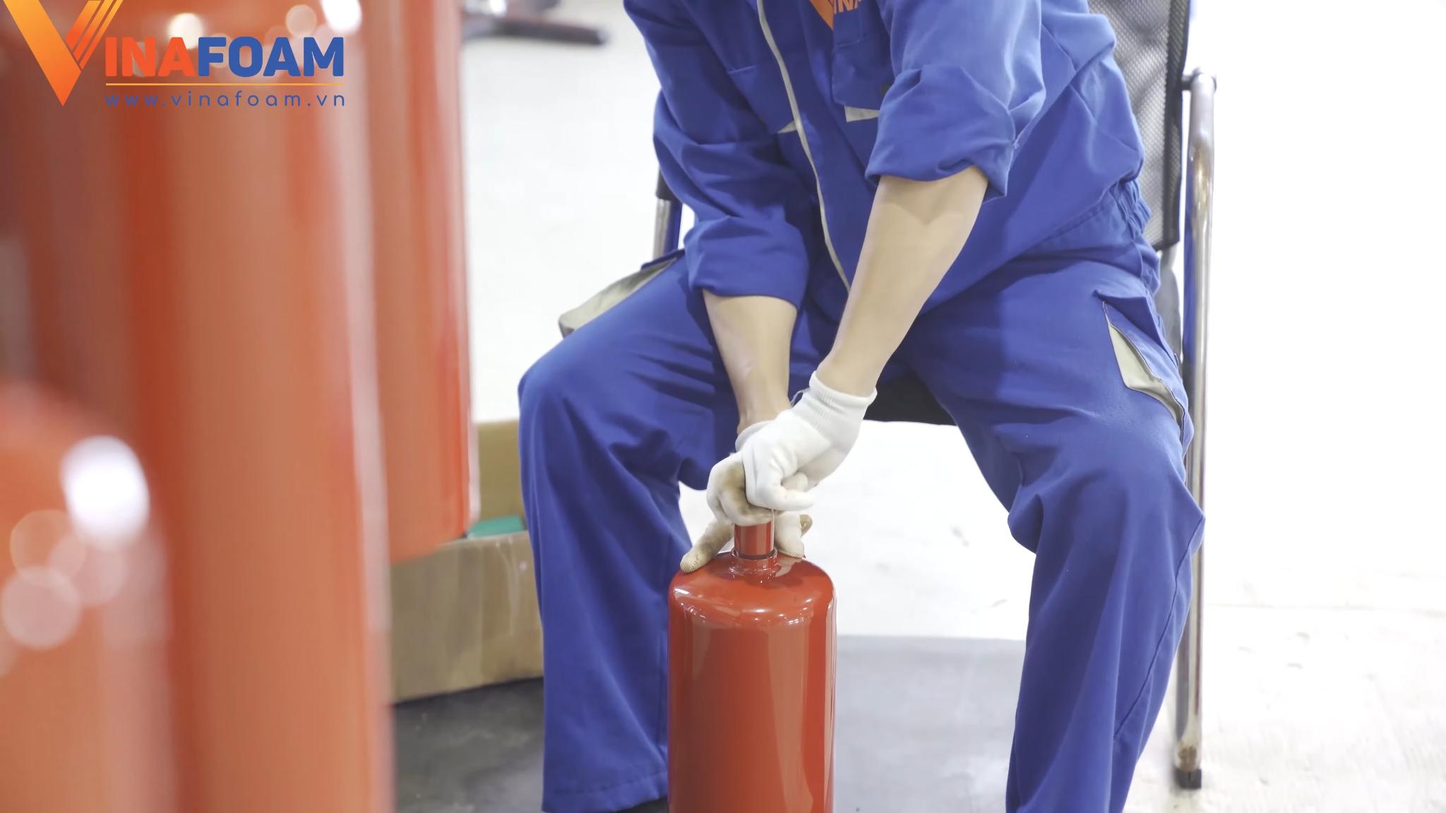FireExtinguisher: (645, 484, 859, 813)
